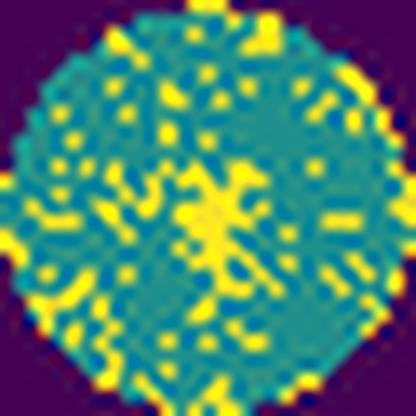Center: (170, 158, 284, 302)
